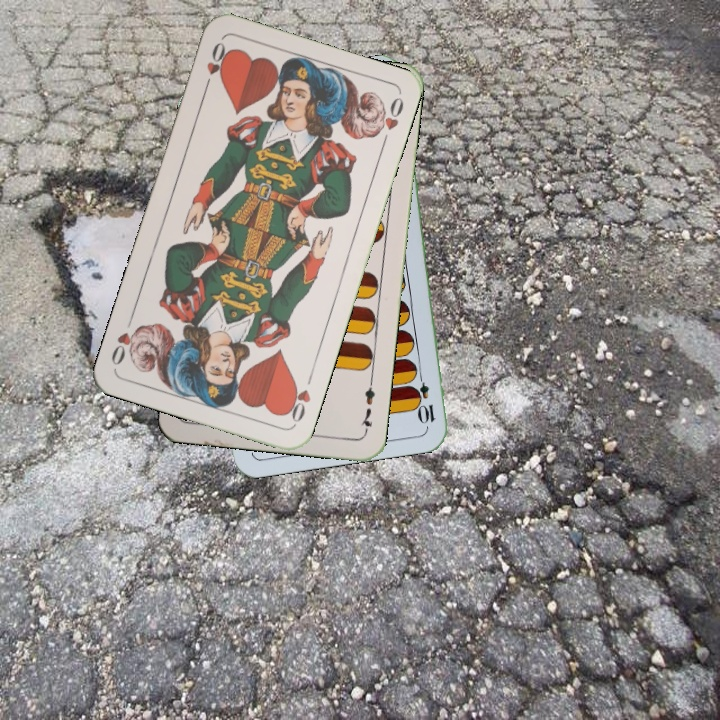E10: (412, 367, 438, 426)
E7: (357, 377, 377, 436)
HO: (281, 369, 316, 427), (200, 37, 231, 94)
